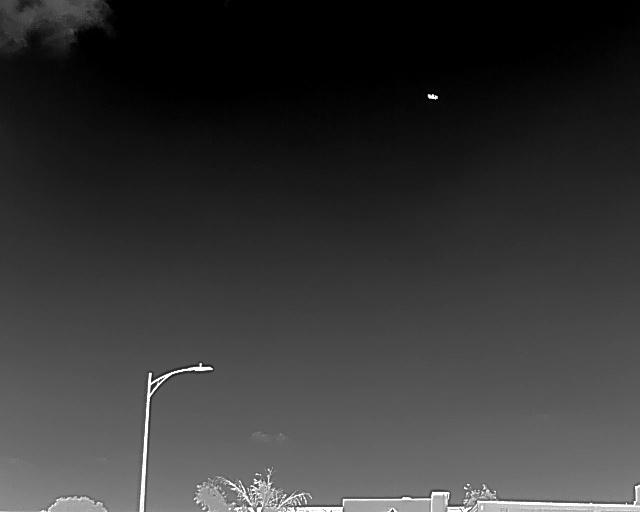fpv-drone: (427, 93, 437, 100)
